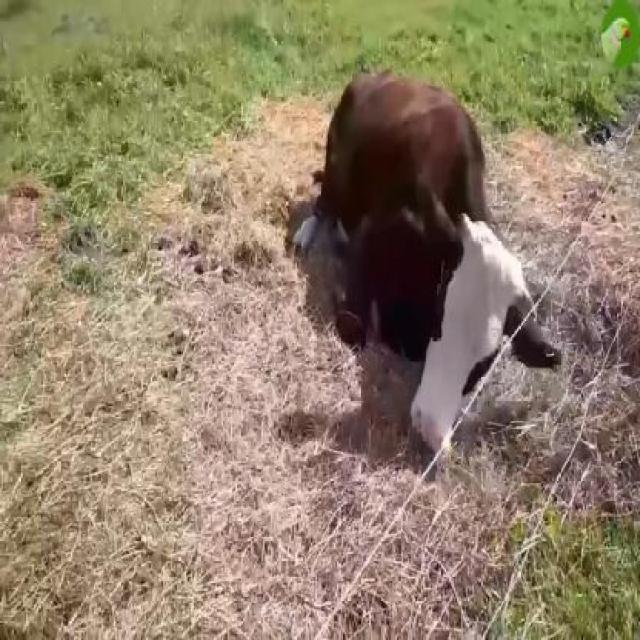Cow: (274, 75, 560, 471)
